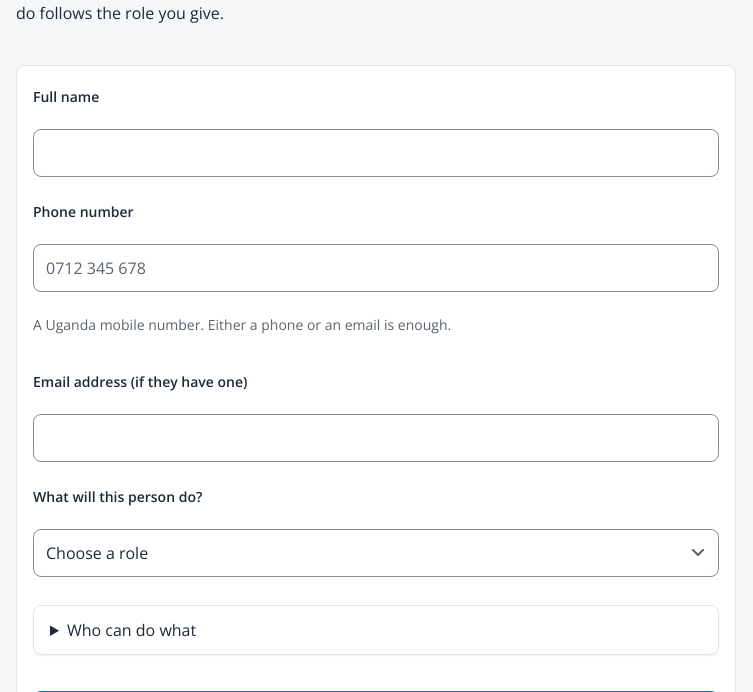
an invite whose answer was lost › adds the same hint when the second tap meets the person already invited
In the field labelled "Full name": {"x": 376, "y": 153} [33,129,719,177], type "Test Cashier 05"
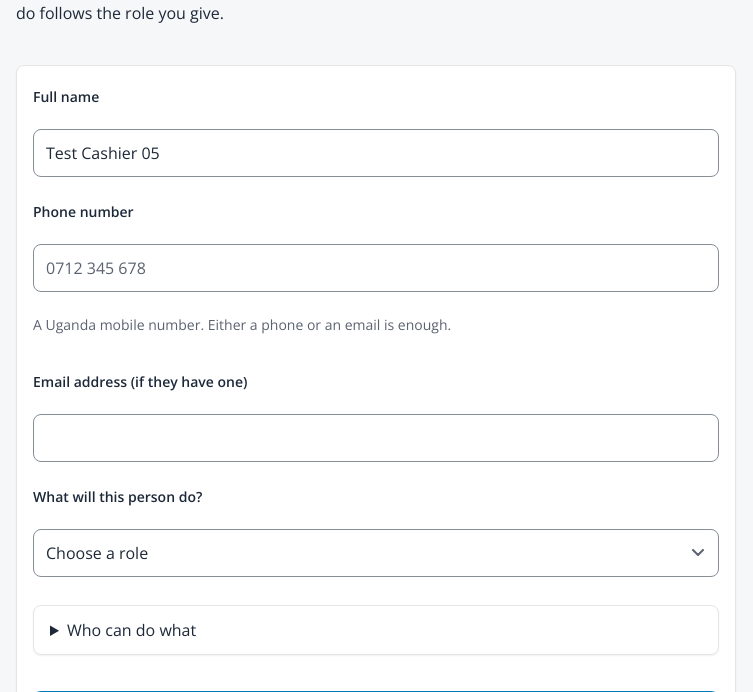
In the field labelled "Phone number": {"x": 376, "y": 268} [33,244,719,292], type "0700 000 005"
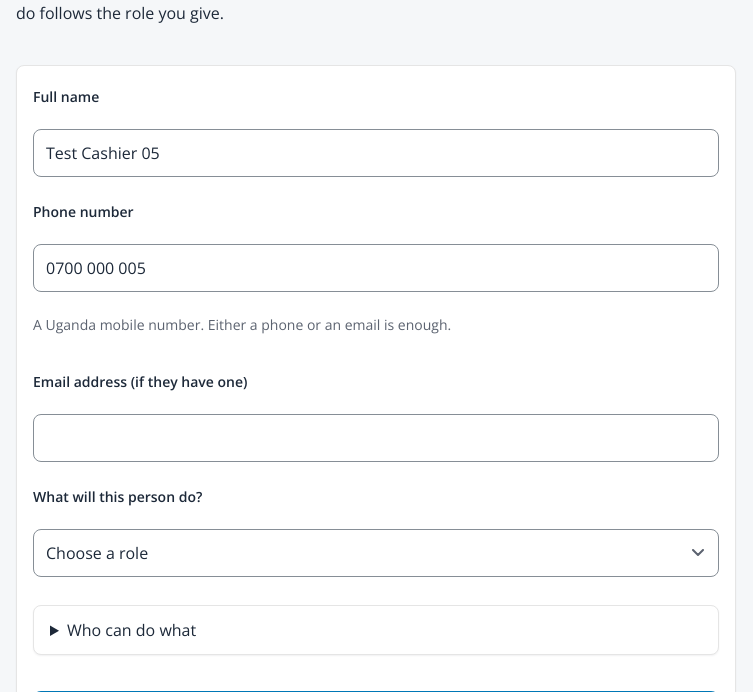
Select "Cashier" in the dropdown labelled "What will this person do?": {"x": 376, "y": 553} [33,529,719,577]
(page scrolled)
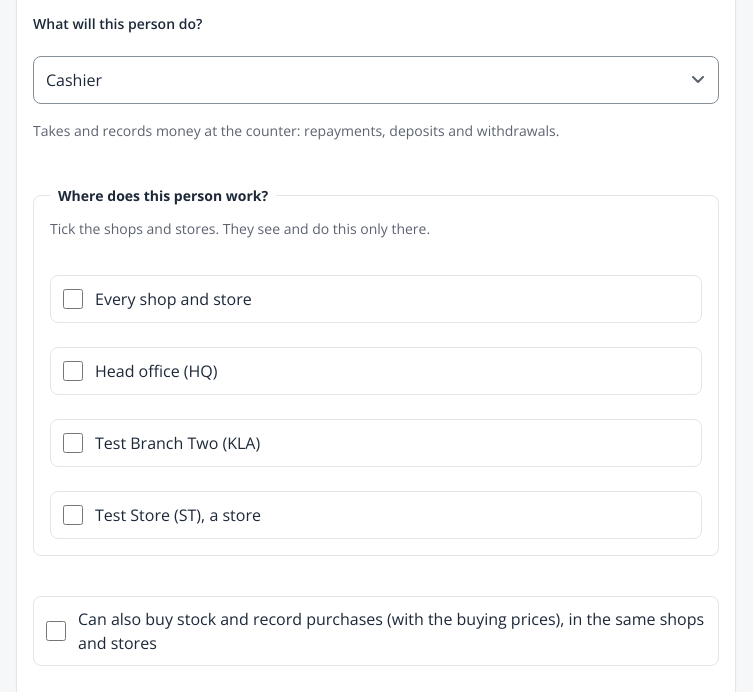
Click the checkbox labelled "Every shop and store": {"x": 73, "y": 299} [63,289,83,309]
(page scrolled)
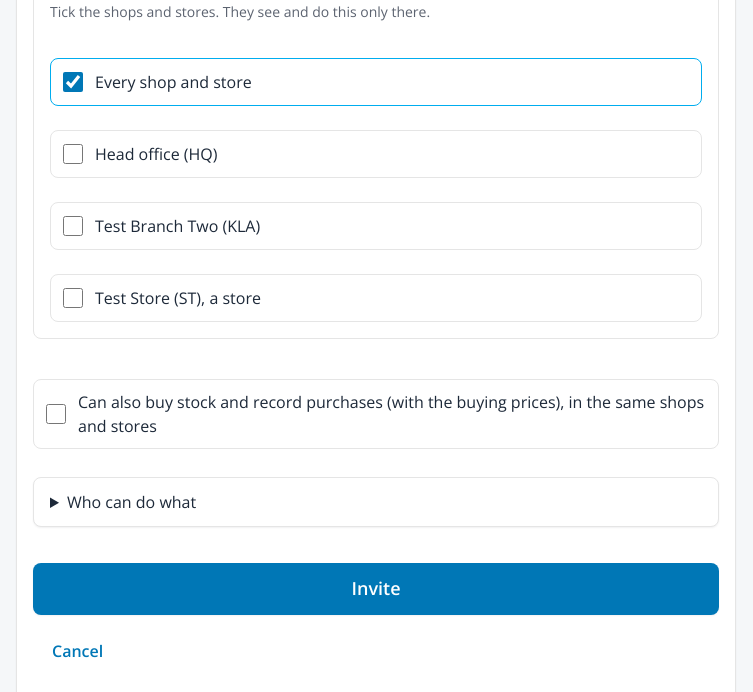
Click the button "Invite": {"x": 376, "y": 589} [33,563,719,615]
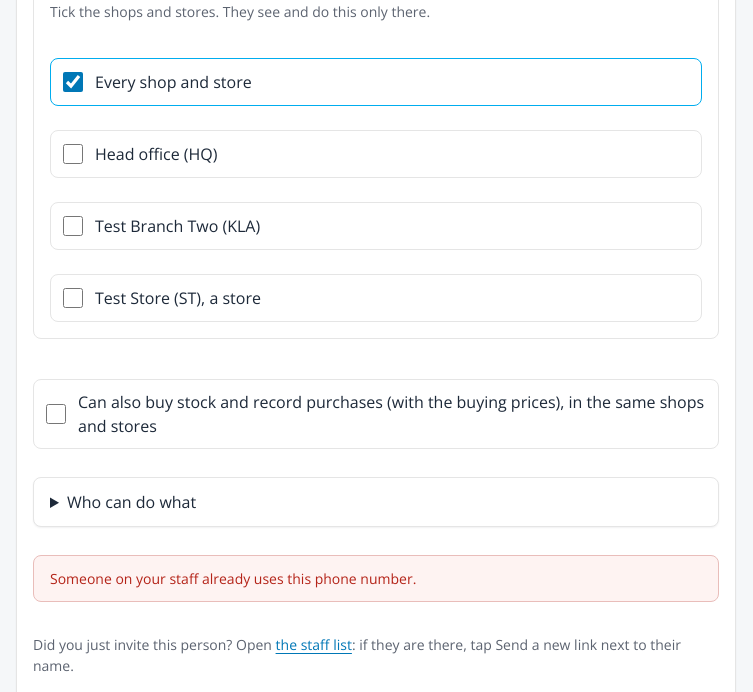
Expected: the message shows "already uses this phone number", [50,569,416,588]
Expected: the text "Did you just invite this person" is shown, [33,635,276,654]
Expected: the link "the staff list" is shown, [276,635,352,654]
